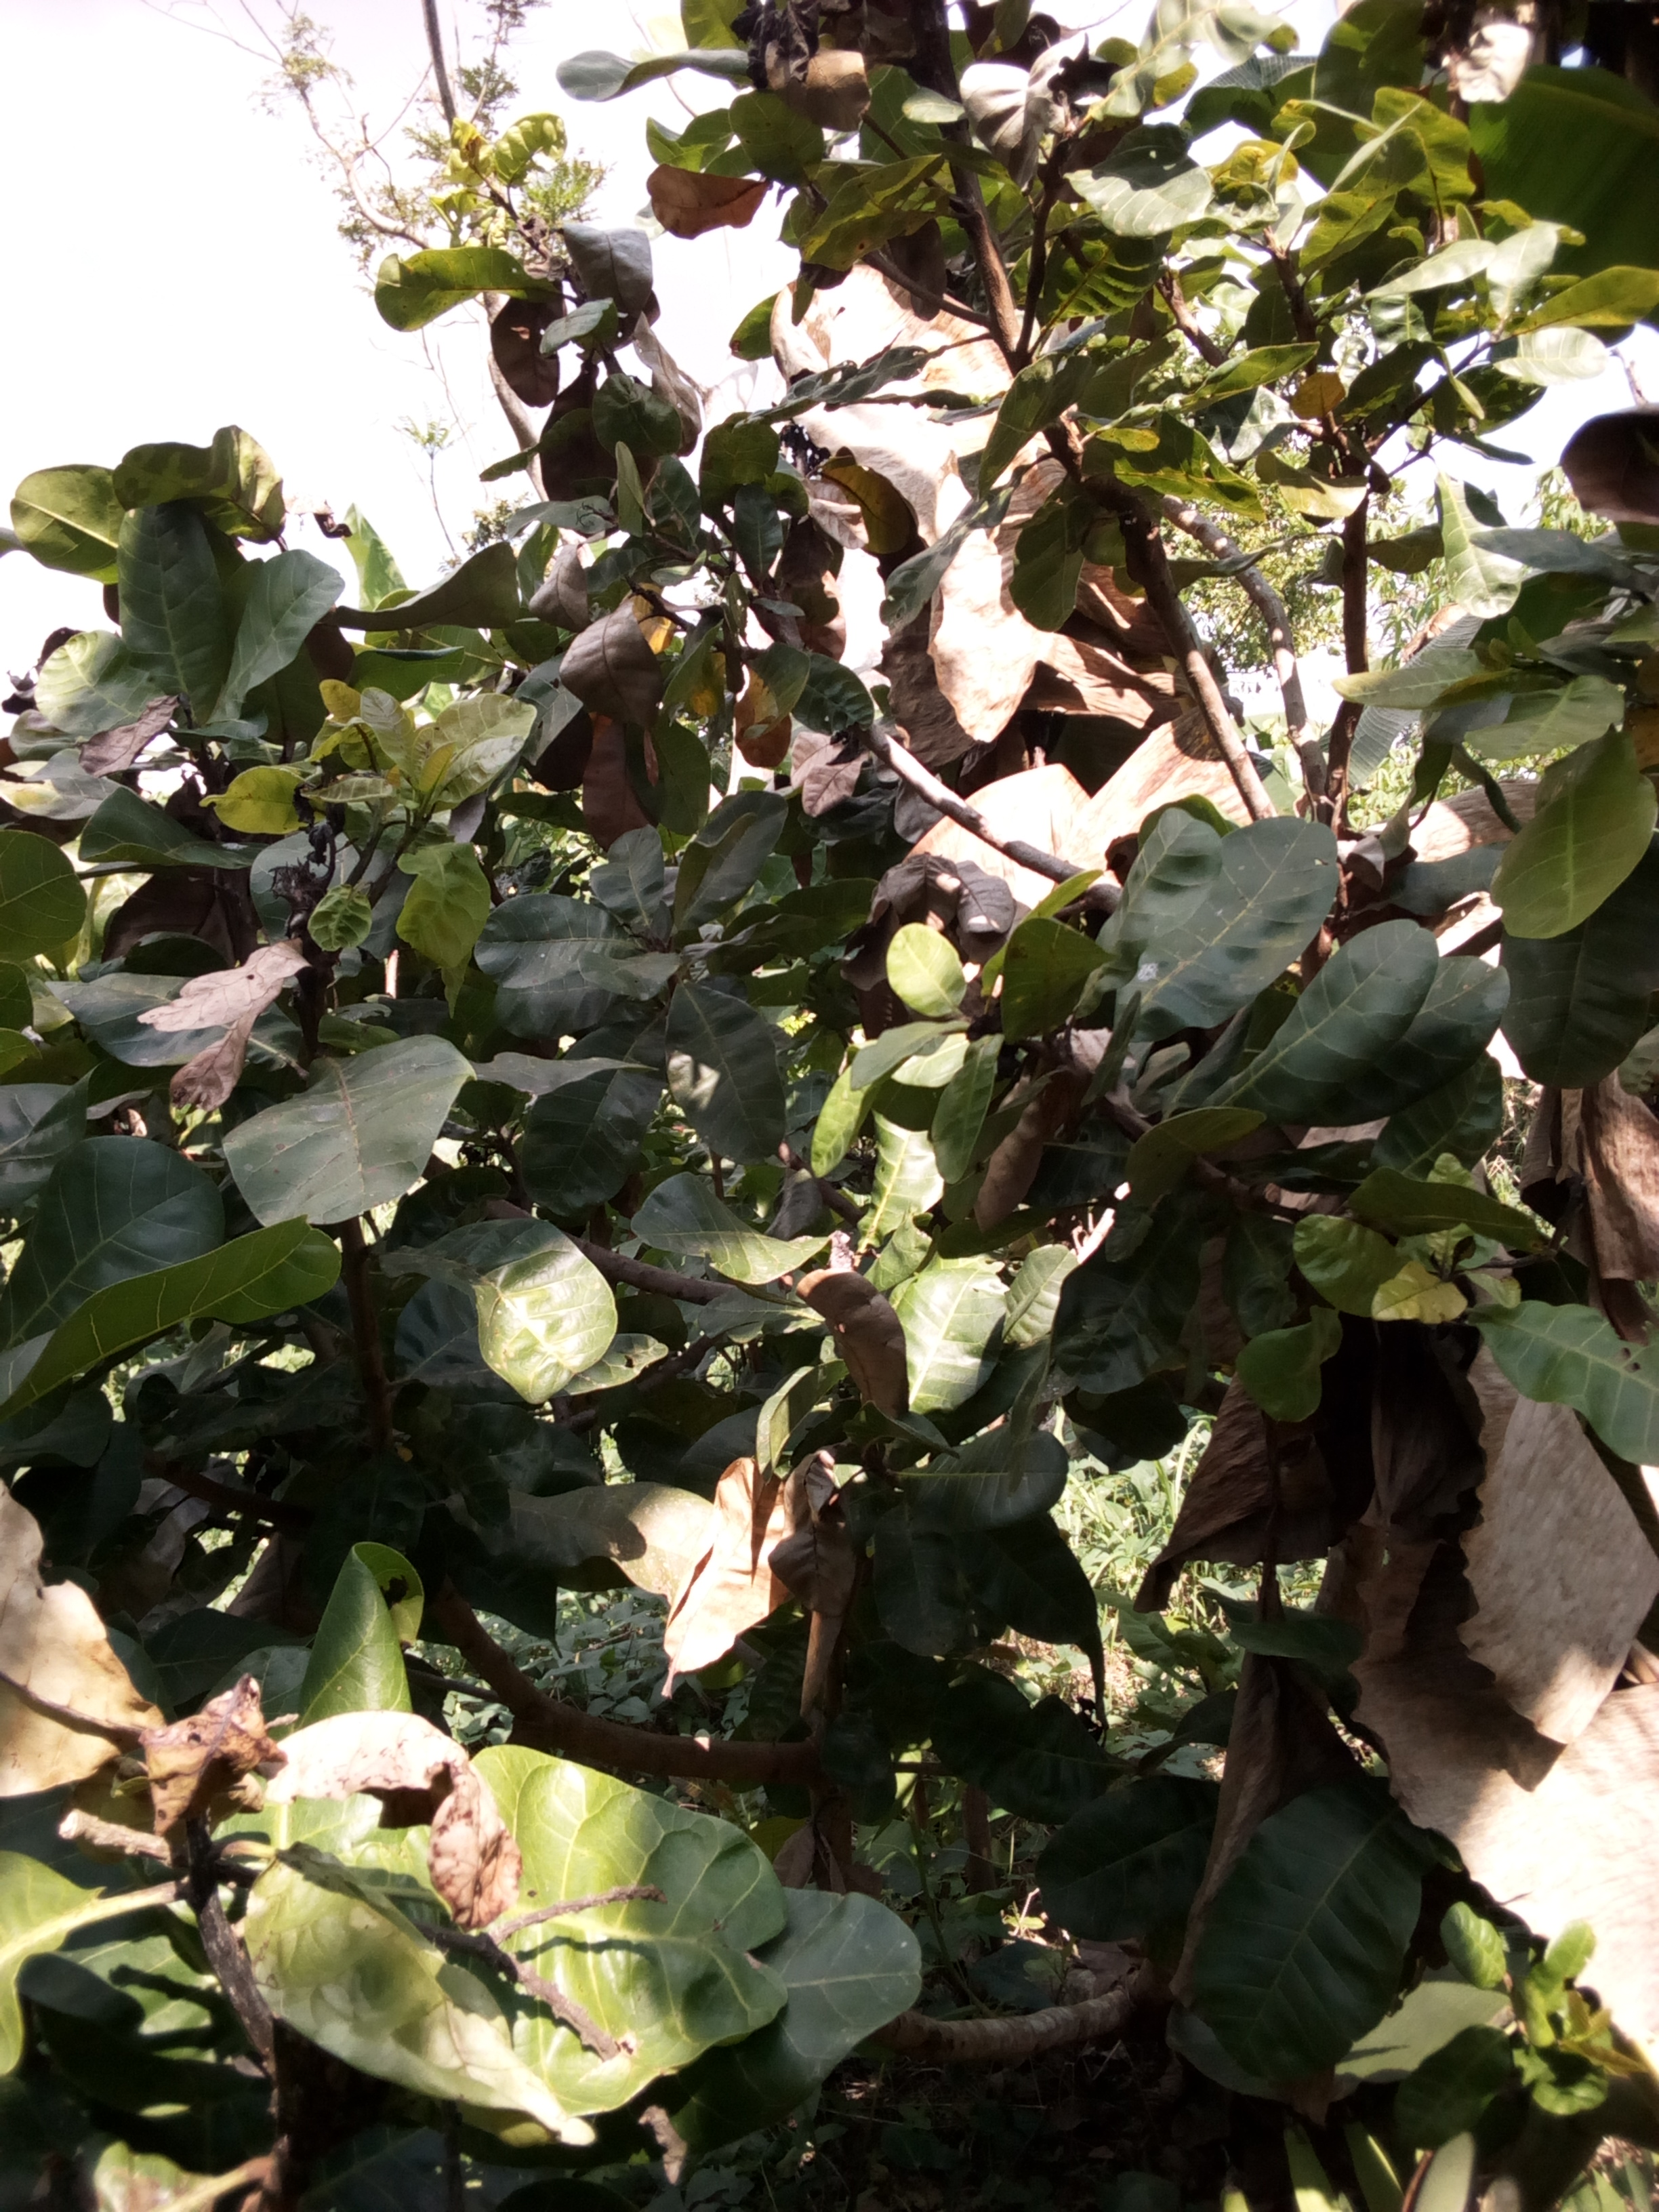Dessèchement des bourgeons: (369, 1808, 685, 2069)
